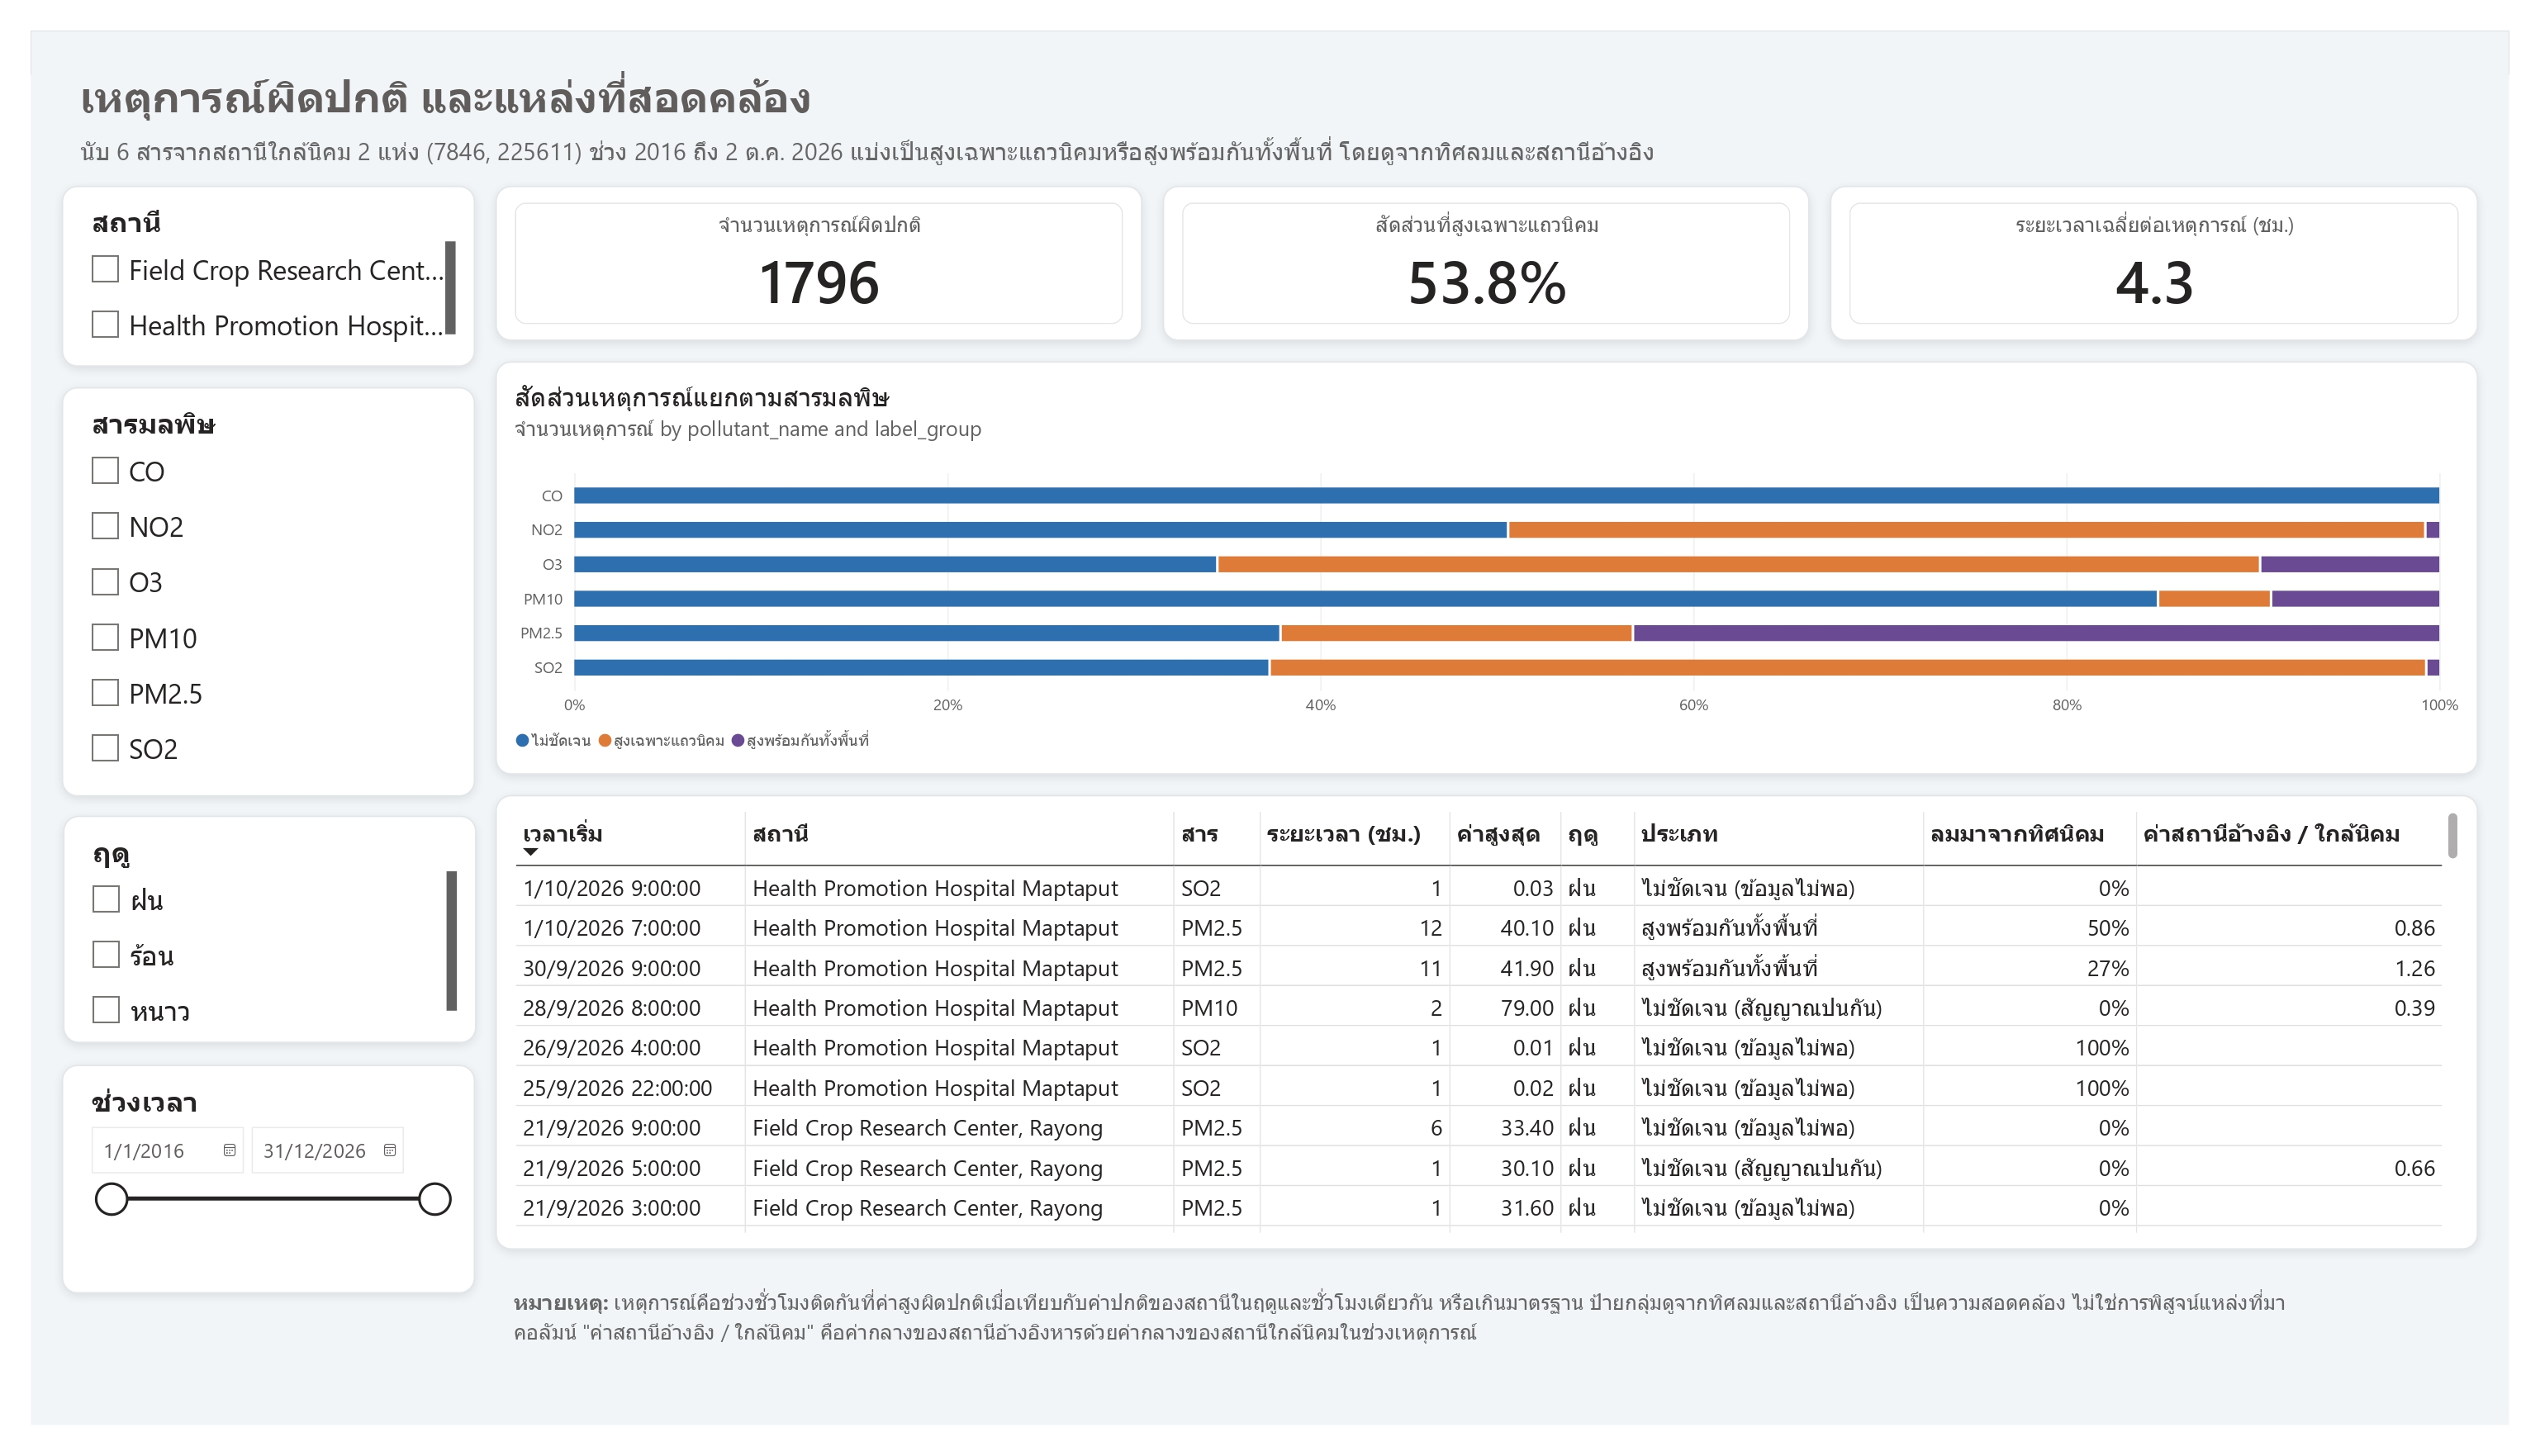

This screenshot's page, from the dashboard's own definition file:
{"tool":"powerbi","page":{"name":"เหตุการณ์","canvas":[1920,1080],"ordinal":1},"visuals":[{"type":"textbox","box":[24,16,1872,72],"z":1000},{"type":"textbox","box":[24,68,1872,52],"z":2000},{"type":"slicer","fields":{"Values":["episodes.station_name"]},"box":[24,120,320,140],"z":3000},{"type":"slicer","fields":{"Values":["episodes.pollutant_name"]},"box":[23.8,276.2,320,316.2],"z":4000},{"type":"slicer","fields":{"Values":["episodes.season_th"]},"box":[25,607.5,320,176.2],"z":5000},{"type":"slicer","fields":{"Values":["date.Date"]},"box":[23.8,801.2,320,176.2],"z":6000},{"type":"textbox","box":[360,960,1536,96],"z":7000},{"type":"cardVisual","fields":{"Data":["episodes.จำนวนเหตุการณ์"]},"box":[360,120,501,120],"z":8000},{"type":"cardVisual","fields":{"Data":["episodes.% สอดคล้องกับแหล่งในพื้นที่"]},"box":[877,120,501,120],"z":9000},{"type":"cardVisual","fields":{"Data":["episodes.ระยะเวลาเฉลี่ย (ชม.)"]},"box":[1394,120,502,120],"z":10000},{"type":"hundredPercentStackedBarChart","title":"สัดส่วนเหตุการณ์แยกตามสารมลพิษ","fields":{"Category":["episodes.pollutant_name"],"Series":["episodes.label_group"],"Y":["episodes.จำนวนเหตุการณ์"]},"box":[360,256,1536,320],"z":11000},{"type":"tableEx","fields":{"Values":["episodes.start_local","episodes.station_name","episodes.pollutant_name","episodes.duration_hours","episodes.peak_value","episodes.season_th","episodes.label_display","episodes.frac_wind_from_industry","episodes.ctrl_ratio"]},"box":[360,592,1536,352],"z":13000}]}

Visuals, with their boxes on the page's 1920x1080 design canvas (x1, y1, x2, y2). These are canvas units, not pixel positions in the 2540x1456 screenshot, which may show the page scaled, cropped or inside an application window:
textbox: select_region(24, 16, 1896, 88)
textbox: select_region(24, 68, 1896, 120)
slicer - episodes.station_name: select_region(24, 120, 344, 260)
slicer - episodes.pollutant_name: select_region(24, 276, 344, 592)
slicer - episodes.season_th: select_region(25, 608, 345, 784)
slicer - date.Date: select_region(24, 801, 344, 977)
textbox: select_region(360, 960, 1896, 1056)
cardVisual - episodes.จำนวนเหตุการณ์: select_region(360, 120, 861, 240)
cardVisual - episodes.% สอดคล้องกับแหล่งในพื้นที่: select_region(877, 120, 1378, 240)
cardVisual - episodes.ระยะเวลาเฉลี่ย (ชม.): select_region(1394, 120, 1896, 240)
"สัดส่วนเหตุการณ์แยกตามสารมลพิษ" hundredPercentStackedBarChart: select_region(360, 256, 1896, 576)
tableEx - episodes.start_local x episodes.station_name: select_region(360, 592, 1896, 944)
